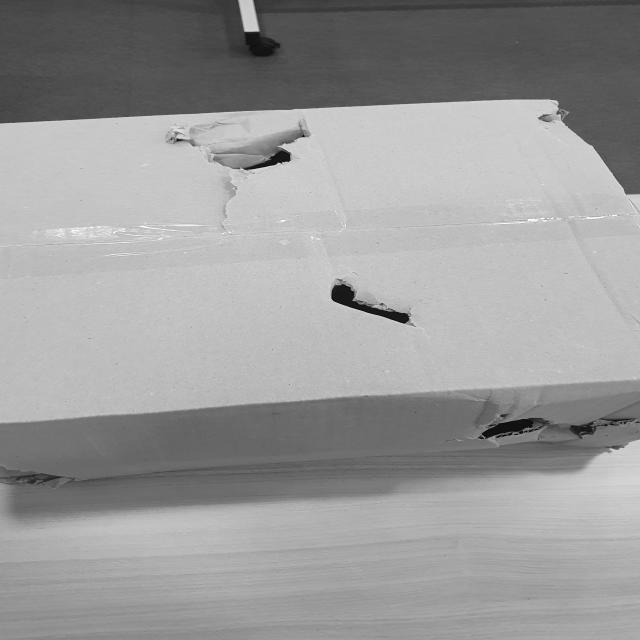hole: (170, 110, 320, 178), (309, 270, 433, 336), (469, 409, 640, 445)
